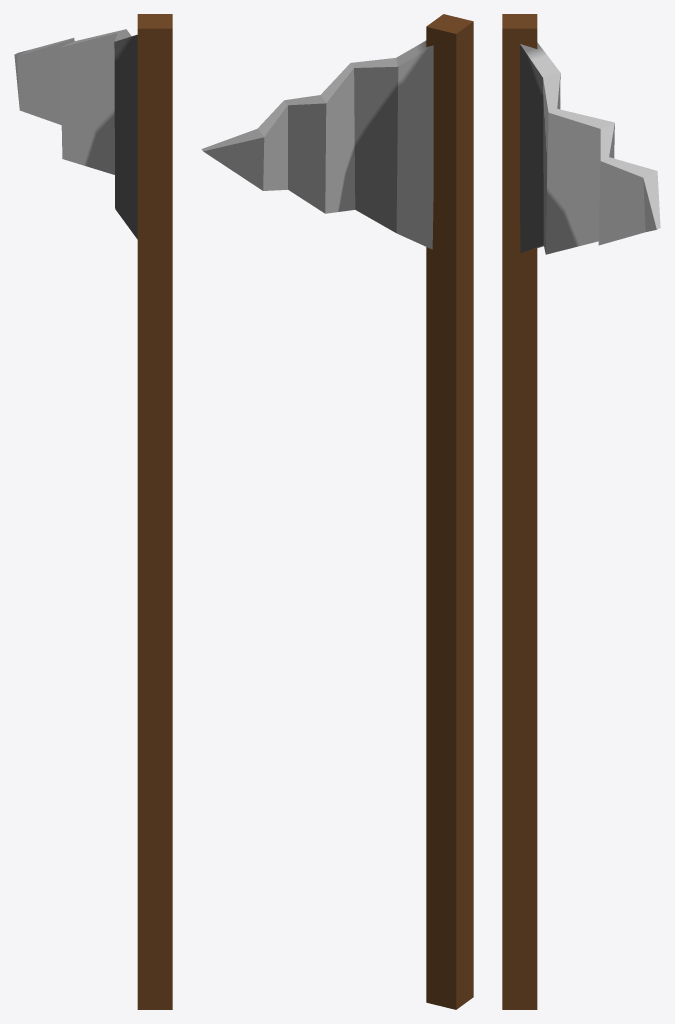
The model's file is StoneFlag_model.fbx.
The picture shows the model from 3 angles, left to right: view 1: azimuth 90°, elevation 25°; view 2: azimuth 150°, elevation 25°; view 3: azimuth 270°, elevation 25°; orthographic projection.
Parts seen in each view (by area): view 1: Wood, Flag; view 2: Wood, Flag; view 3: Wood, Flag.
Boxes of the visible parts, x1,y1,x2,y2 form: Wood: (137, 14, 172, 1009); Flag: (14, 29, 137, 239); Wood: (426, 14, 473, 1009); Flag: (201, 40, 433, 249); Wood: (502, 14, 537, 1009); Flag: (520, 42, 660, 254).
Size of the model in its own units: 39.04 by 186 by 27.22.
